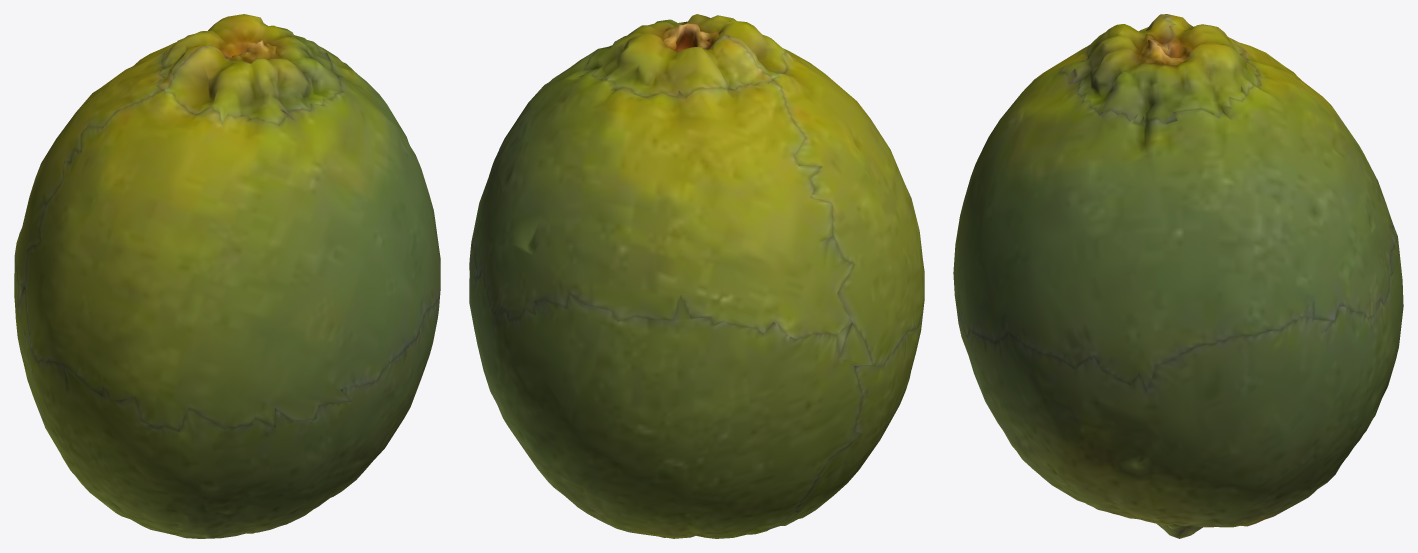
The model's file is food_lime_01.glb.
3 views of the same model, side by side, from view 1: azimuth 30°, elevation 25°; view 2: azimuth 150°, elevation 25°; view 3: azimuth 270°, elevation 25° (orthographic).
Parts seen in each view (by area): view 1: food_lime_01; view 2: food_lime_01; view 3: food_lime_01.
Boxes of the visible parts, x1,y1,x2,y2 form: food_lime_01: (14, 14, 440, 538); food_lime_01: (469, 14, 924, 538); food_lime_01: (953, 14, 1403, 538).
Bounding box in the file's own units: 0.0601 × 0.0754 × 0.0613.
1 material, 1 textured.
